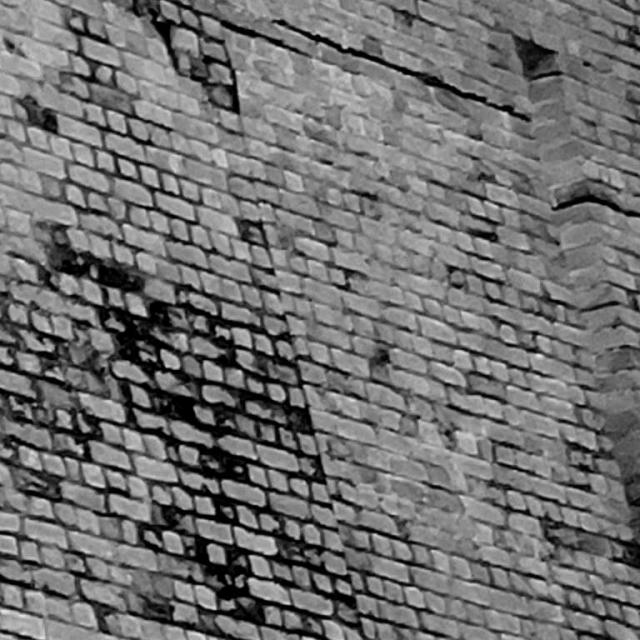crack: (272, 18, 531, 122), (169, 1, 362, 74), (148, 9, 240, 113), (548, 194, 640, 217)
